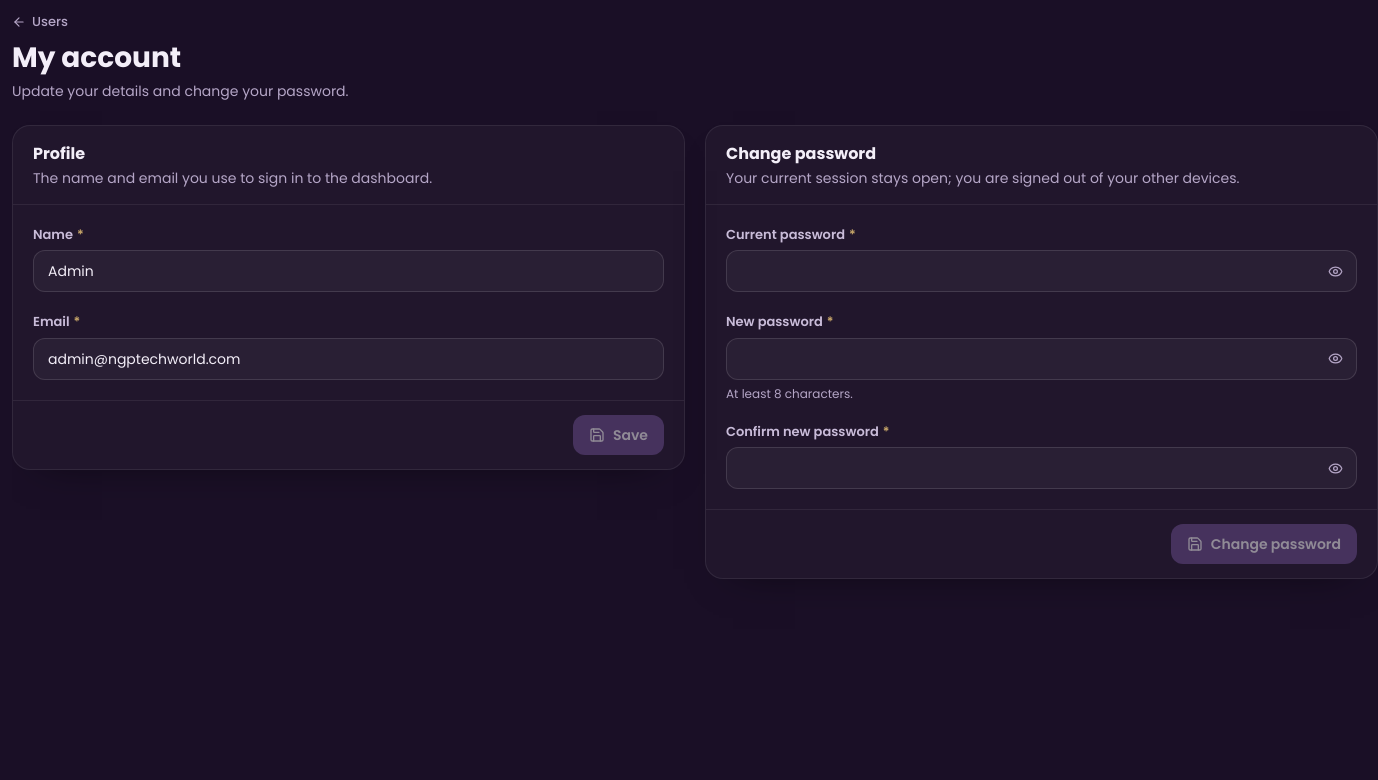
AccountPage — profile › saves name and email, refreshes the top bar, toasts and disables Save again
Replace the text in the field labelled "Name *" with "Baraa Ali" at [348, 271], box [33,250,664,292]
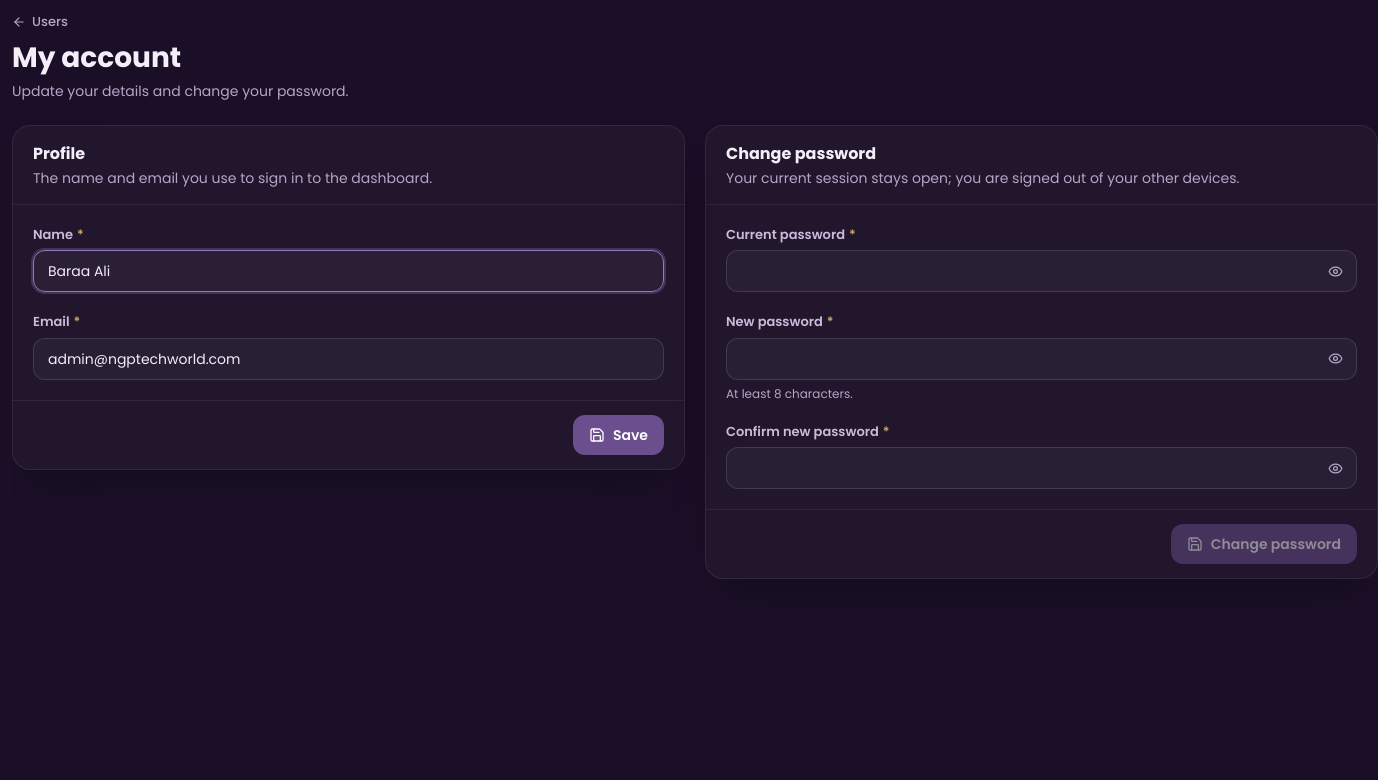
Click the button "Save" at [618, 435], box [573,415,664,455]
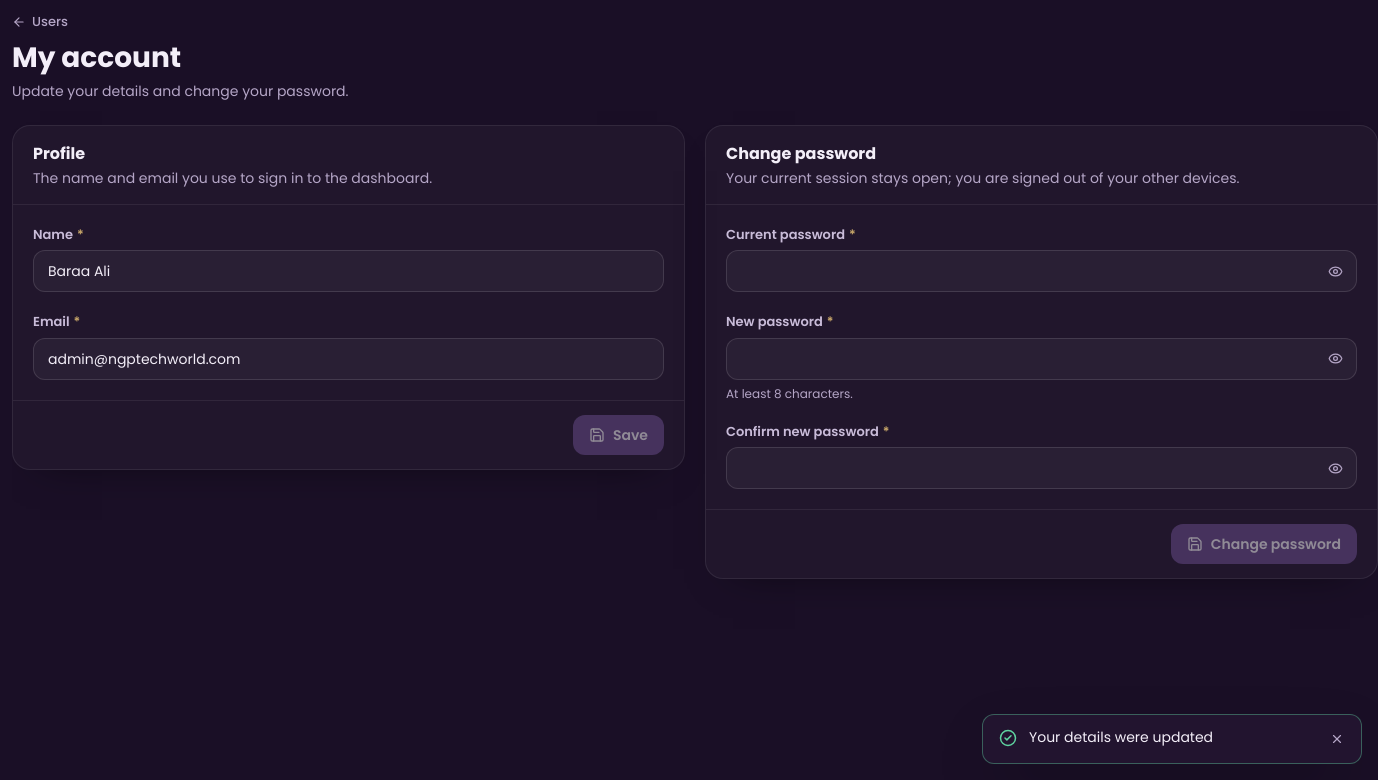
Expected: the text "Your details were updated" is shown, [1029,727,1213,747]
Expected: the button "Save" is disabled, [573,415,664,455]
